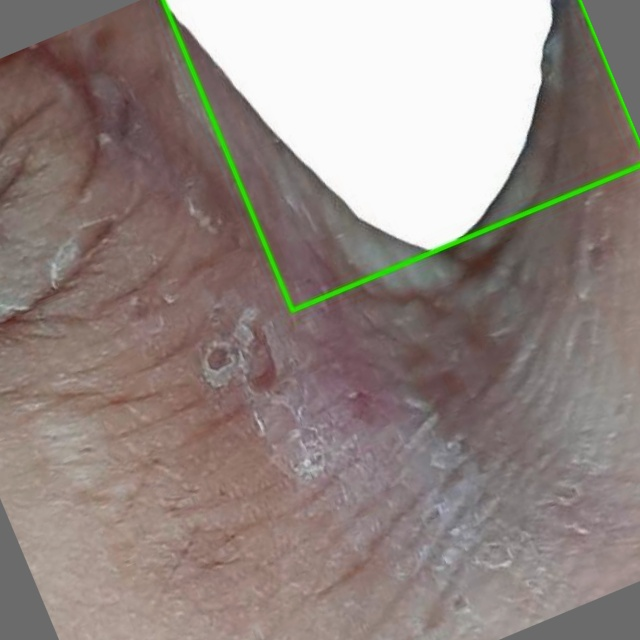Scabies: (161, 0, 639, 309)
